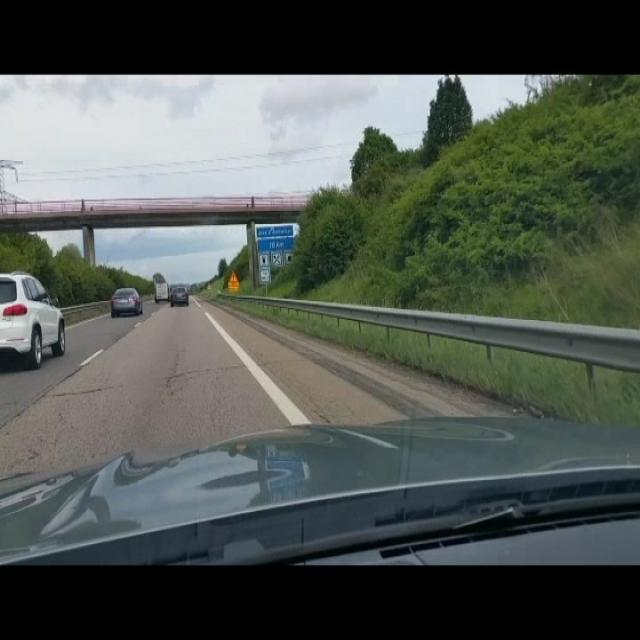indication: (256, 226, 294, 252)
